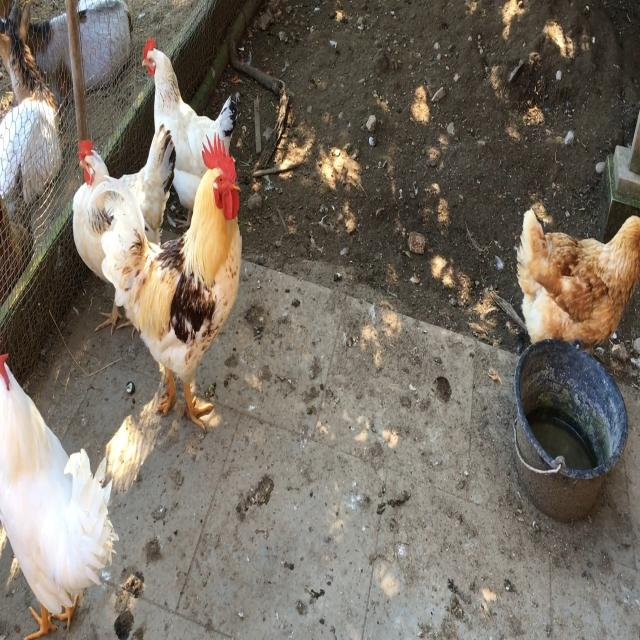chicken: (92, 164, 257, 434), (504, 174, 638, 372), (131, 34, 246, 162)
